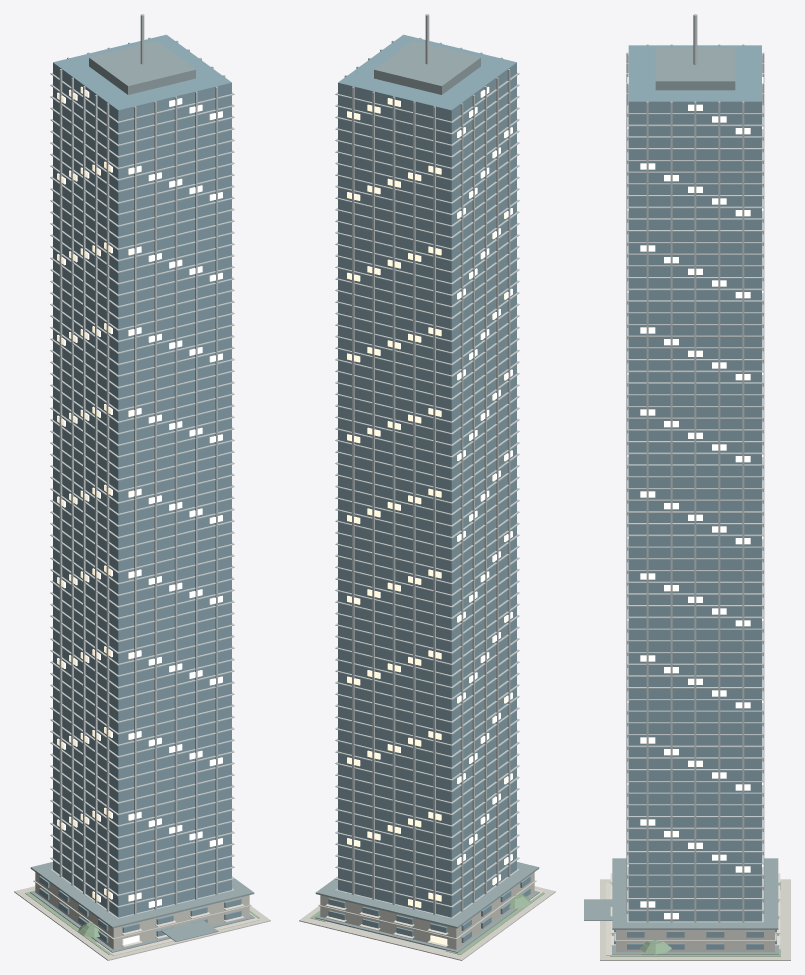
Rendered from remaster_skyscraper_8.glb.
3 views of the same model, side by side, from view 1: azimuth 30°, elevation 25°; view 2: azimuth 150°, elevation 25°; view 3: azimuth 270°, elevation 25° (orthographic).
Visible parts, largest first — view 1: remaster_skyscraper_8 glass, remaster_skyscraper_8 metal, remaster_skyscraper_8 roof, remaster_skyscraper_8 warm, remaster_skyscraper_8 stone; view 2: remaster_skyscraper_8 glass, remaster_skyscraper_8 metal, remaster_skyscraper_8 warm, remaster_skyscraper_8 roof, remaster_skyscraper_8 stone; view 3: remaster_skyscraper_8 glass, remaster_skyscraper_8 metal, remaster_skyscraper_8 roof, remaster_skyscraper_8 warm, remaster_skyscraper_8 stone, remaster_skyscraper_8 green.
Boxes of the visible parts, bbox=[...] form: remaster_skyscraper_8 glass: bbox=[39, 34, 241, 942]; remaster_skyscraper_8 metal: bbox=[50, 14, 234, 918]; remaster_skyscraper_8 roof: bbox=[30, 41, 254, 952]; remaster_skyscraper_8 warm: bbox=[57, 86, 222, 944]; remaster_skyscraper_8 stone: bbox=[14, 872, 270, 960]; remaster_skyscraper_8 glass: bbox=[328, 34, 530, 942]; remaster_skyscraper_8 metal: bbox=[335, 14, 519, 918]; remaster_skyscraper_8 warm: bbox=[347, 86, 512, 944]; remaster_skyscraper_8 roof: bbox=[315, 41, 539, 952]; remaster_skyscraper_8 stone: bbox=[299, 872, 555, 960]; remaster_skyscraper_8 glass: bbox=[614, 45, 776, 949]; remaster_skyscraper_8 metal: bbox=[626, 14, 764, 922]; remaster_skyscraper_8 roof: bbox=[584, 47, 778, 954]; remaster_skyscraper_8 warm: bbox=[627, 73, 763, 919]; remaster_skyscraper_8 stone: bbox=[600, 879, 790, 960]; remaster_skyscraper_8 green: bbox=[610, 882, 780, 956].
Size of the model in its own units: 38.58 by 201 by 41.6.
